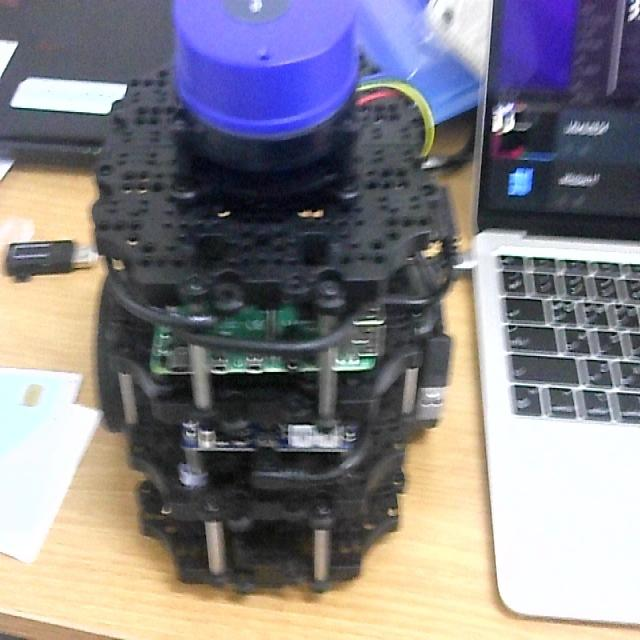turtle: (89, 0, 458, 599)
